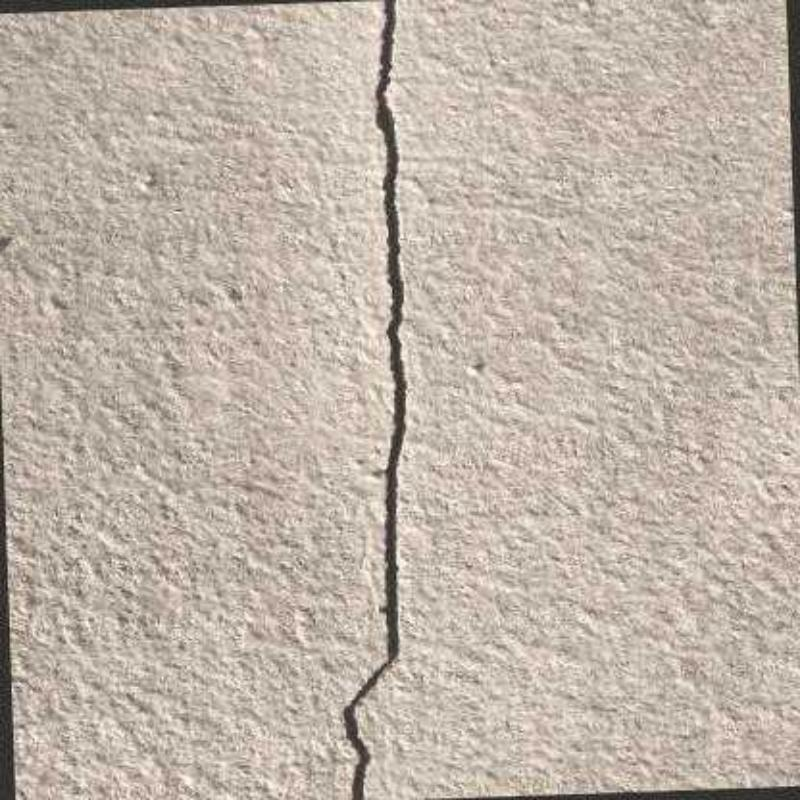pothole: (340, 0, 405, 800)
